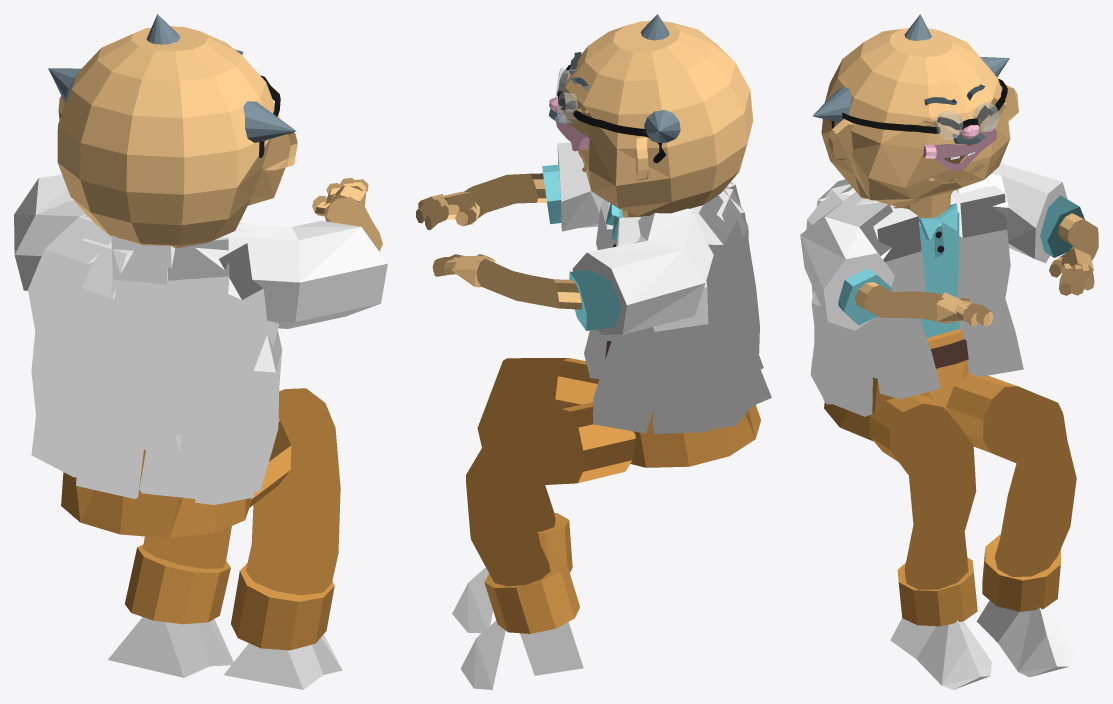
The model's file is 6AiJTqiTAQO.glb.
3 views of the same model, side by side, from view 1: azimuth 30°, elevation 25°; view 2: azimuth 150°, elevation 25°; view 3: azimuth 270°, elevation 25° (orthographic). The views are drawn at different scales.
Parts seen in each view (by area): view 1: Node; view 2: Node; view 3: Node.
Part boxes in pixels (x1=…): Node: x1=14, y1=14, x2=387, y2=689; Node: x1=416, y1=14, x2=771, y2=689; Node: x1=800, y1=14, x2=1098, y2=689.
Bounding box in the file's own units: 0.4638 × 0.9253 × 0.413.
